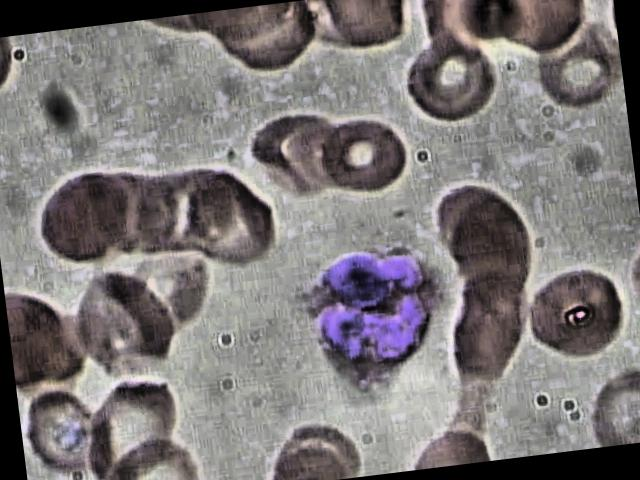RBC: (65, 262, 183, 384), (520, 258, 634, 368), (396, 28, 510, 136), (185, 158, 286, 279), (28, 164, 142, 270), (245, 100, 346, 206), (442, 189, 538, 300), (440, 270, 536, 380), (16, 382, 110, 477), (530, 24, 624, 117), (319, 109, 412, 202), (98, 422, 204, 480), (399, 420, 503, 472), (259, 430, 367, 480)
WBC: (285, 232, 458, 400)
